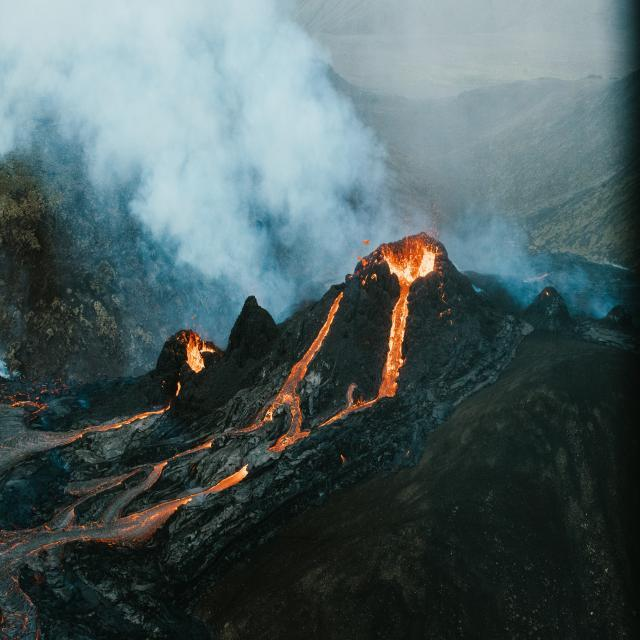Smoke: (57, 5, 366, 263)
